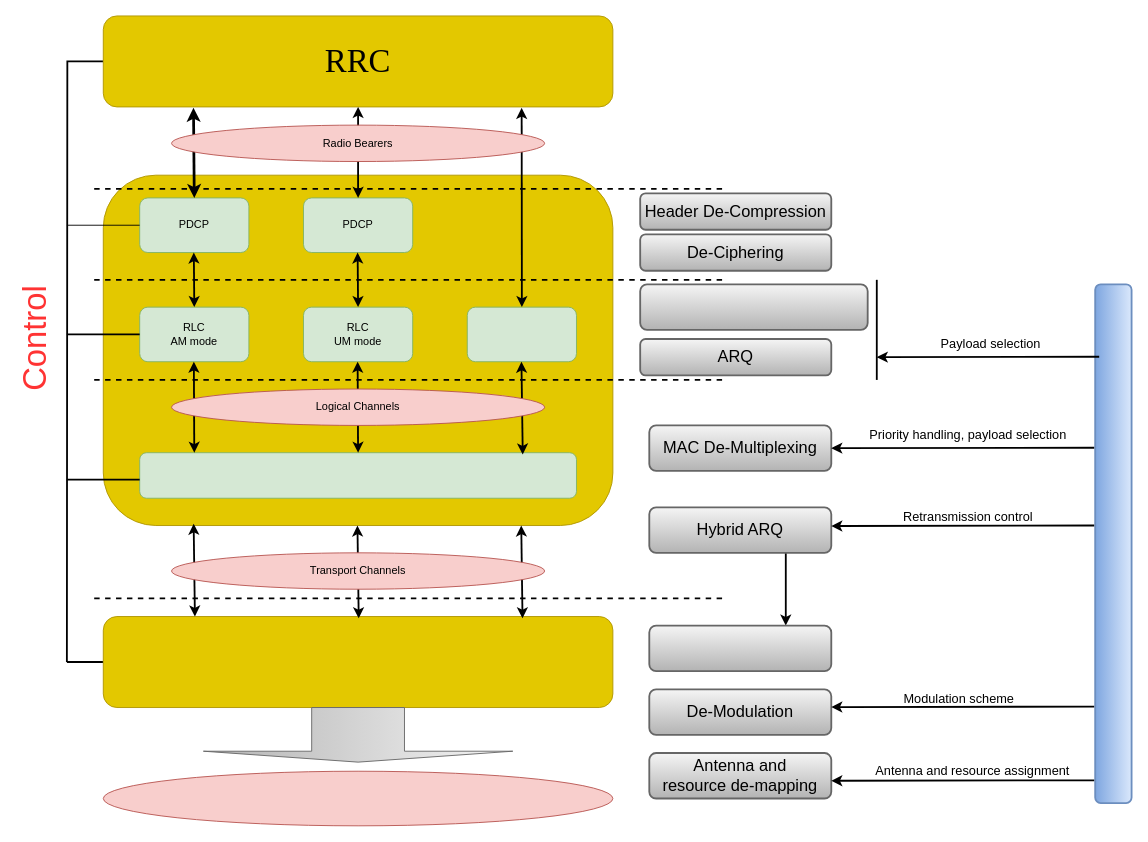
Some shapes in this 1148 by 842 pixel diagram are drawn without their labels. Each missing label, with the centre of its shape:
"De-Coding" belongs at point (740, 648).
"MAC" belongs at point (357, 475).
"PHY" belongs at point (357, 662).
"Physical Channels" belongs at point (357, 798).
"RLC TM mode" belongs at point (521, 334).
"Scheduler" belongs at point (1113, 543).
"Segmentation, concatenation, and reassembly" belongs at point (753, 306).
